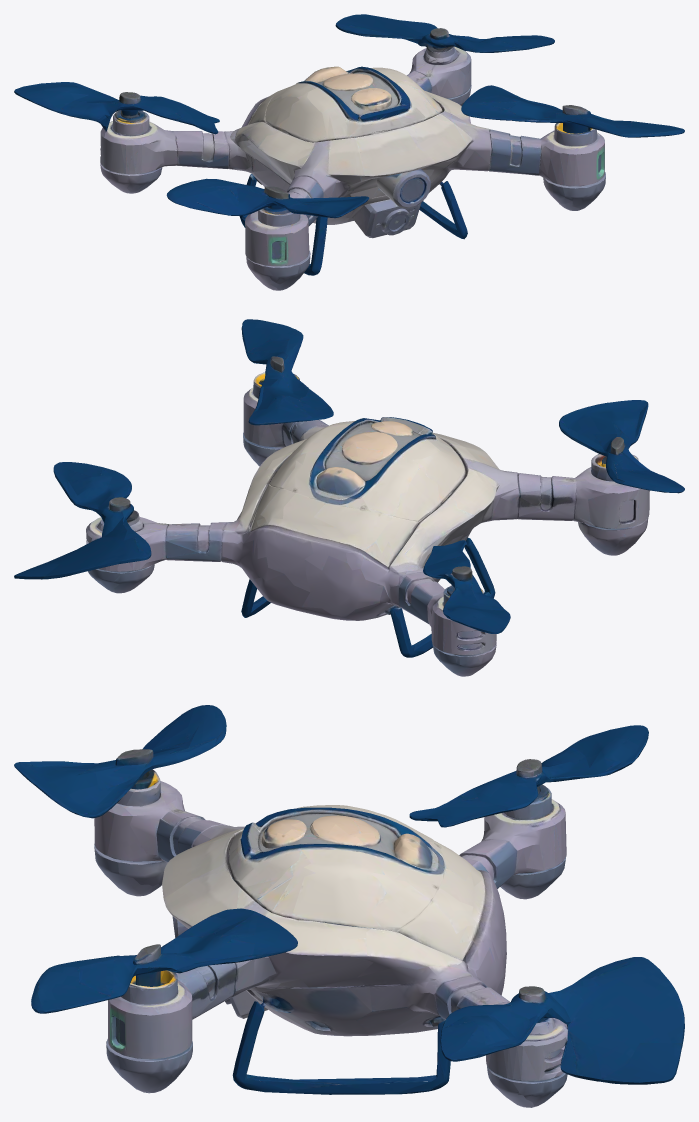
File: inspection-drone.gltf
3 views of the same model, one above another, from view 1: azimuth 30°, elevation 25°; view 2: azimuth 150°, elevation 25°; view 3: azimuth 270°, elevation 25° (orthographic). The views are drawn at different scales.
Size of the model in its own units: 1.9 by 0.5981 by 1.68.
1 material, 1 textured.
